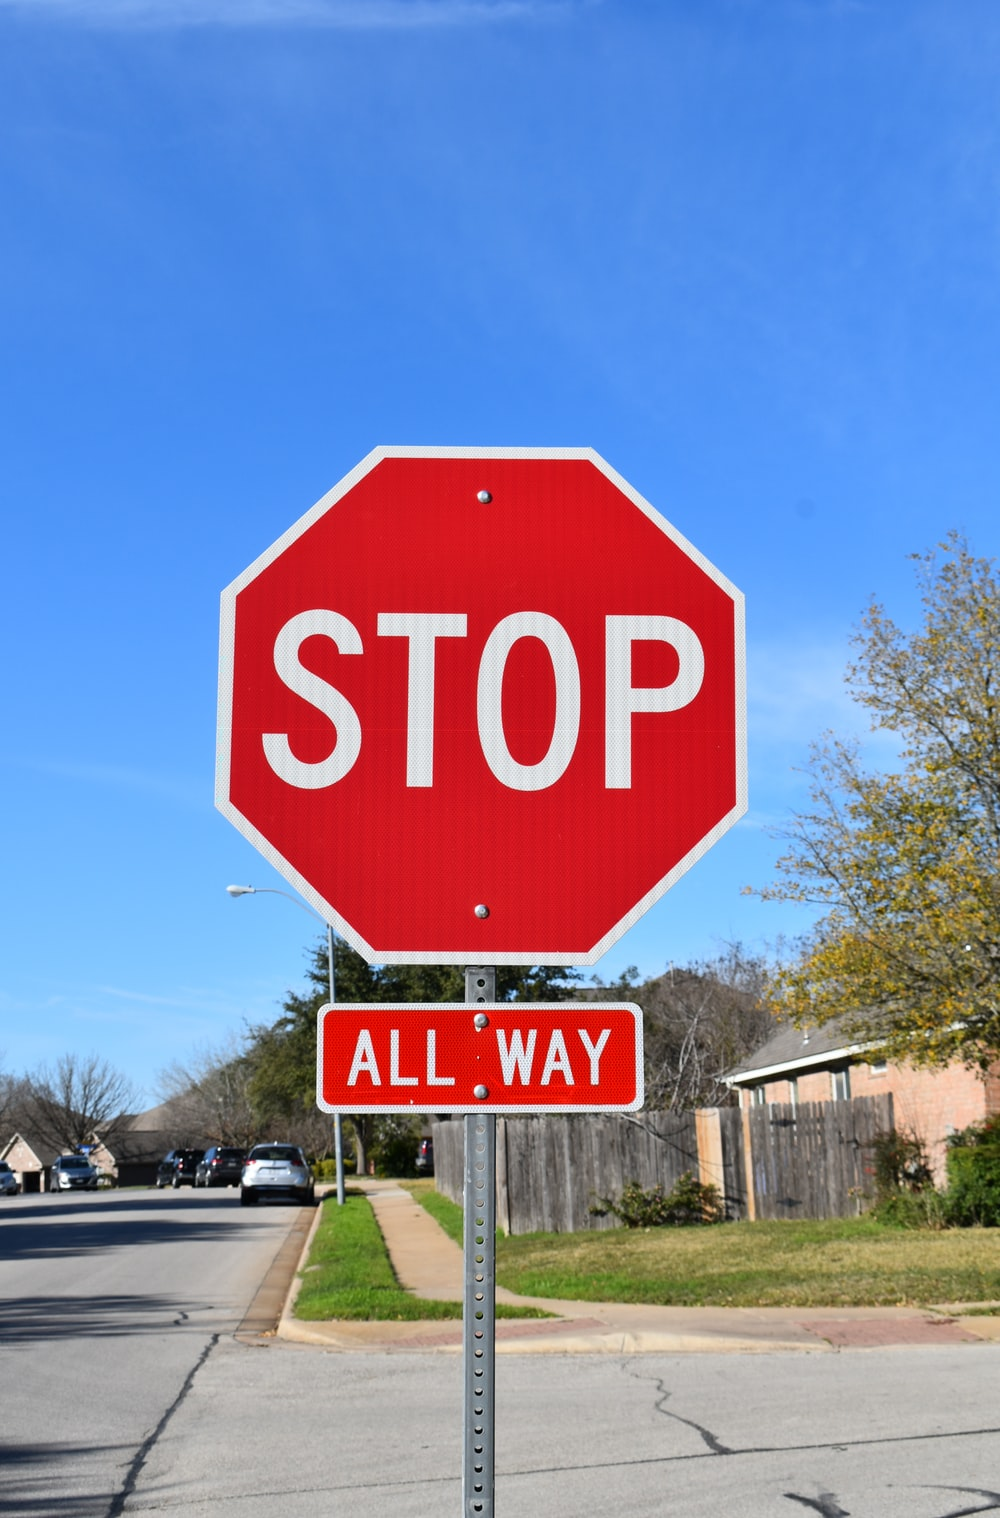STOP: (208, 442, 769, 967)
